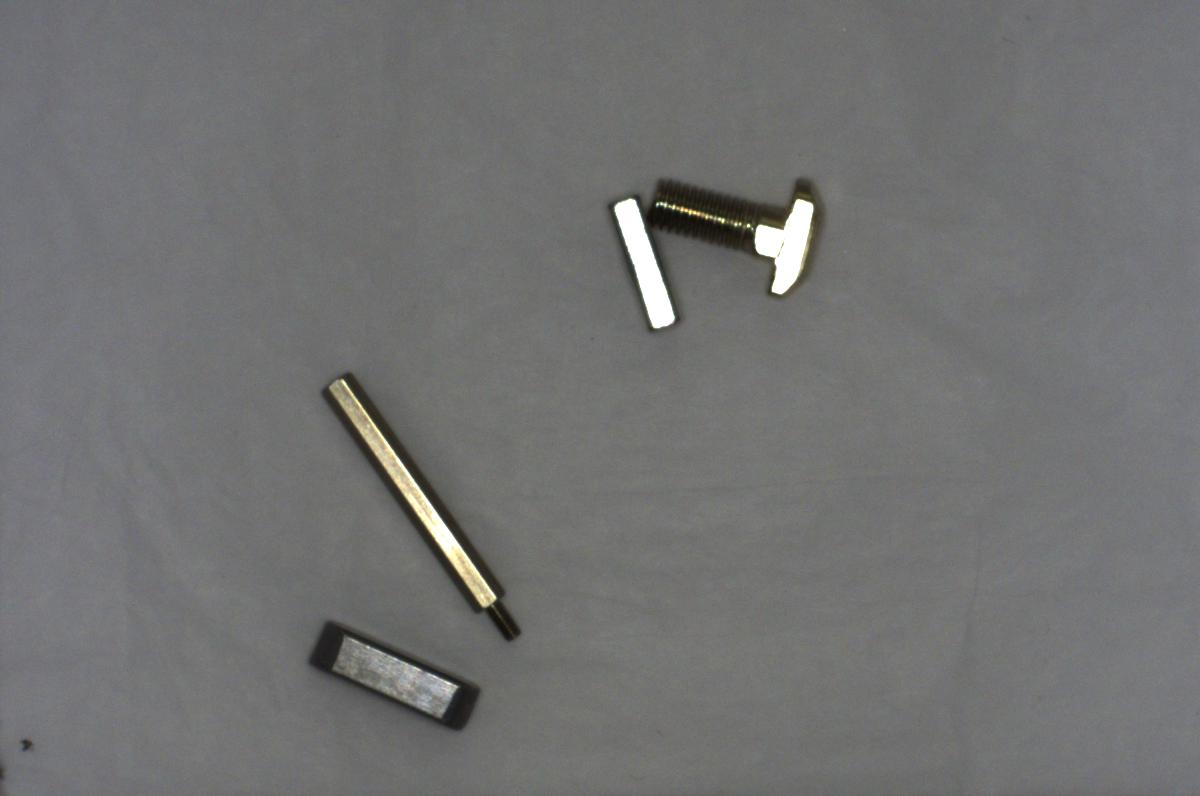Hexagonal steel column: (318, 368, 524, 643)
Keybar: (300, 614, 485, 733)
Rectangular nut: (608, 187, 678, 335)
T-shaped screw: (646, 162, 826, 303)
